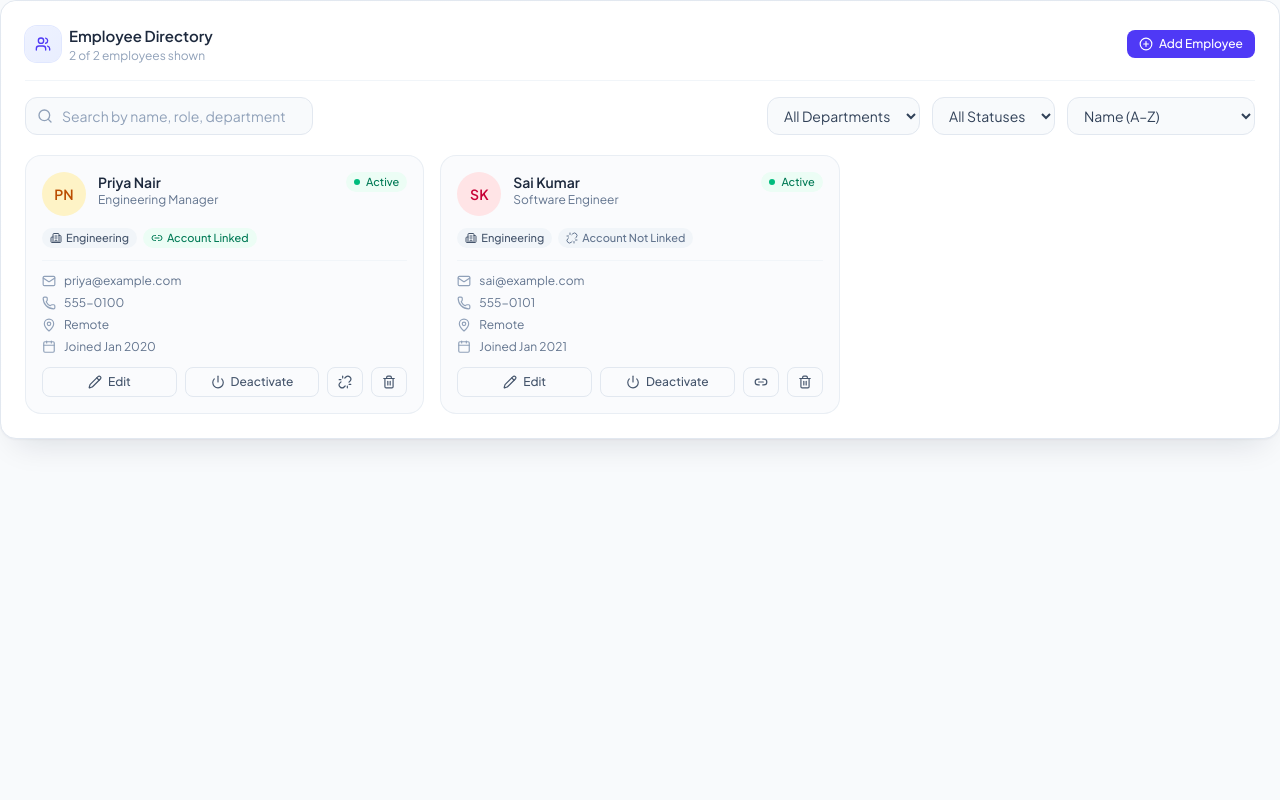
Test: EmployeesPage employee-profile linking › links an employee end-to-end: opens the picker, fetches linkable accounts, confirms, refreshes
Click the button named "Link account for Sai Kumar".
click(761, 382)  # box top-left (743, 367), bottom-right (779, 397)
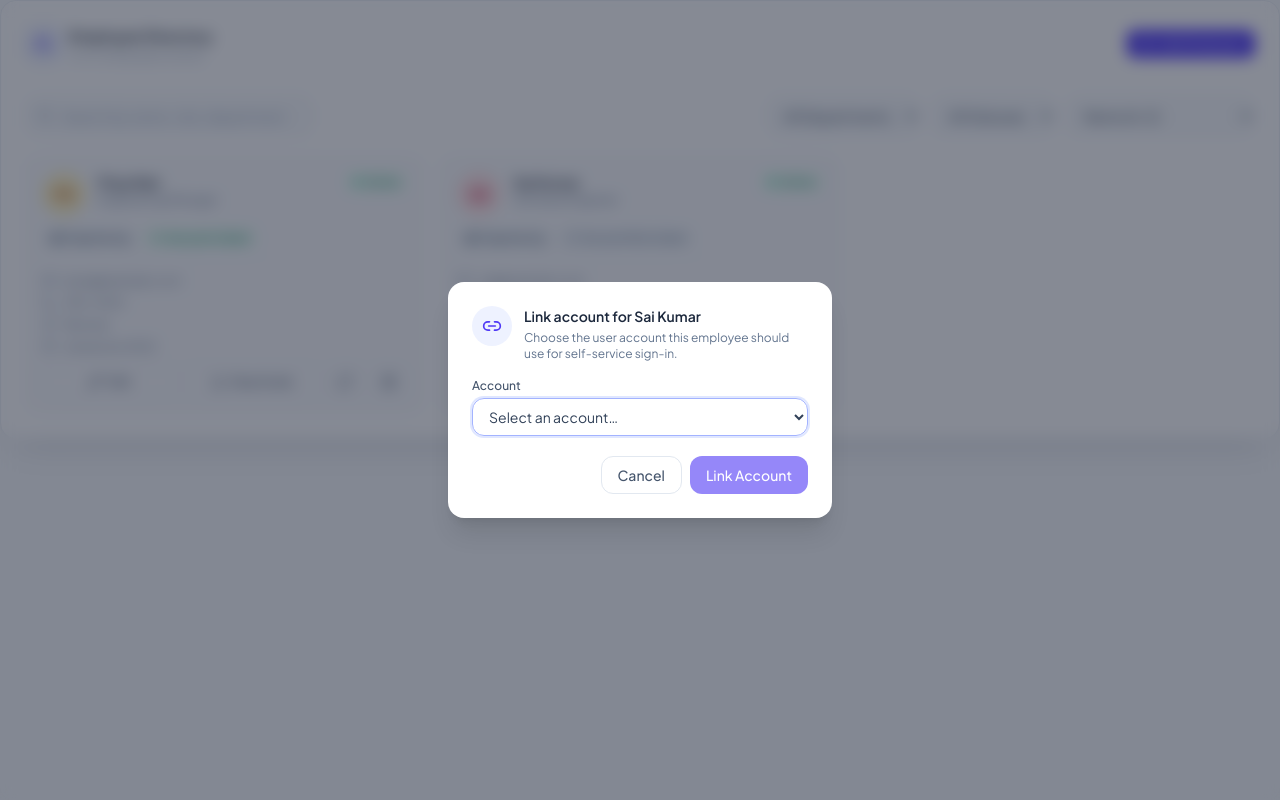
Select "New Hire (new.hire@example.com)" in the dropdown labelled "Account" at (640, 417), box top-left (472, 398), bottom-right (808, 436)
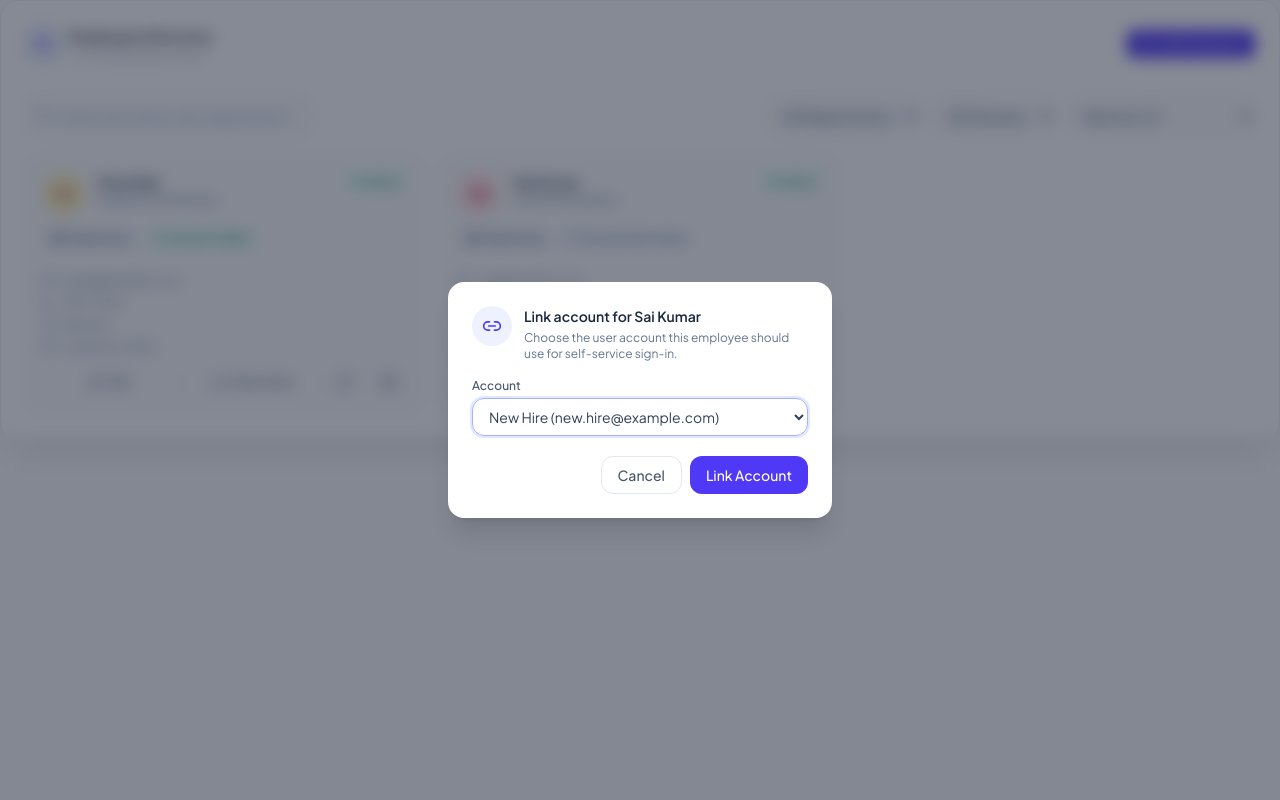
Click the button "Link Account".
click(749, 475)  # box top-left (690, 456), bottom-right (808, 494)
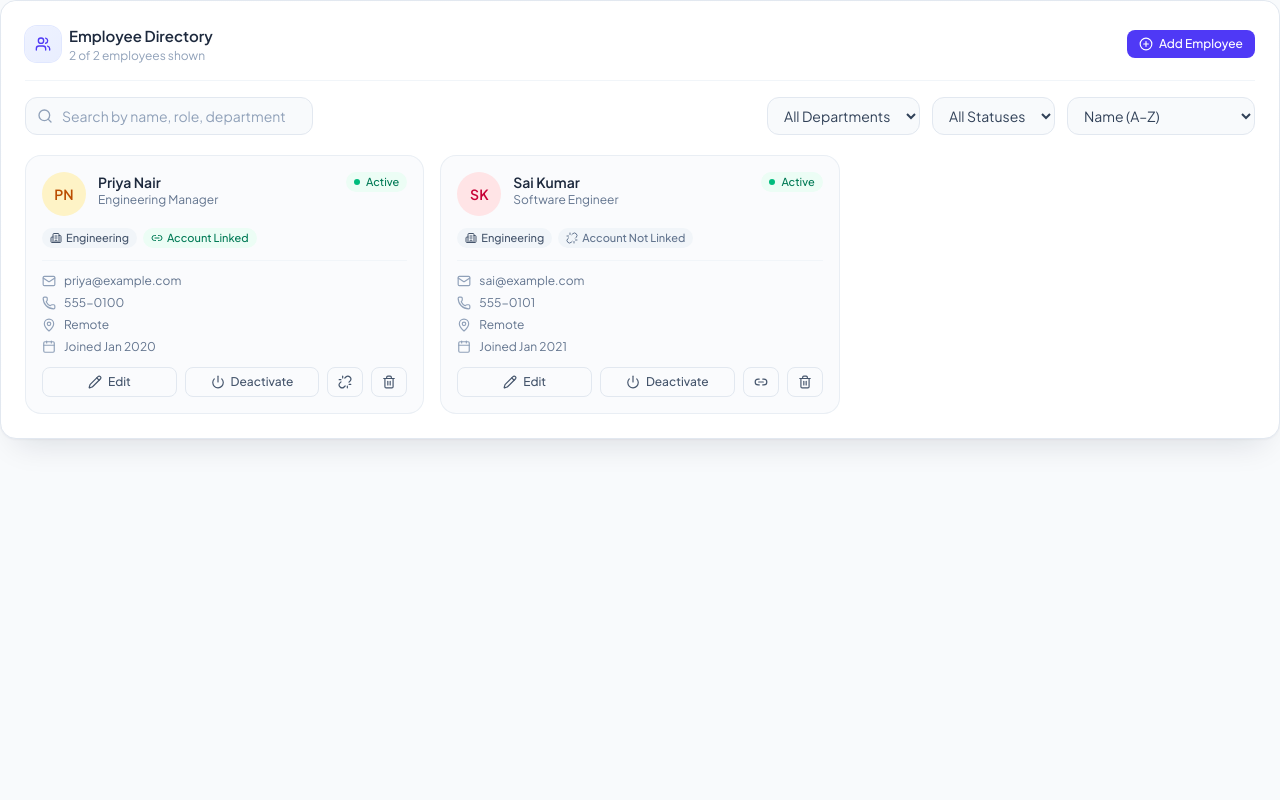
Expected: the dialog is gone
